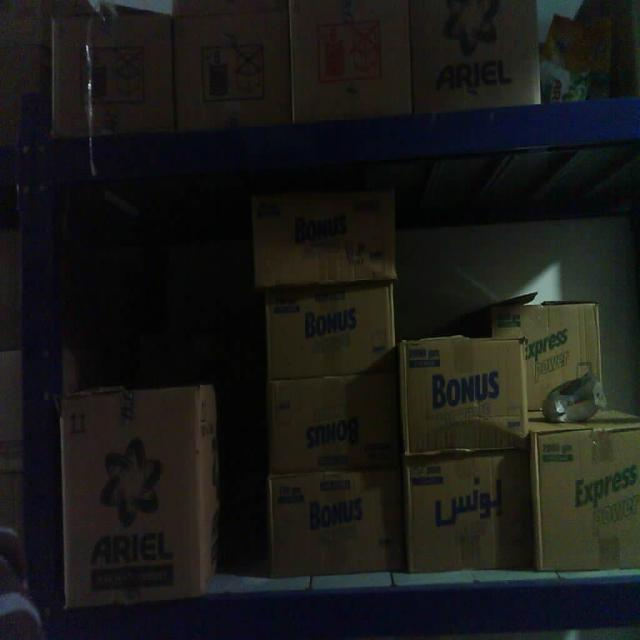box: (58, 386, 202, 606), (397, 334, 532, 456), (51, 6, 176, 134), (531, 426, 640, 572), (402, 454, 537, 571), (268, 464, 405, 576), (171, 0, 292, 125), (286, 0, 415, 113), (254, 187, 397, 282), (486, 300, 599, 416), (268, 372, 404, 466), (263, 282, 400, 373)
